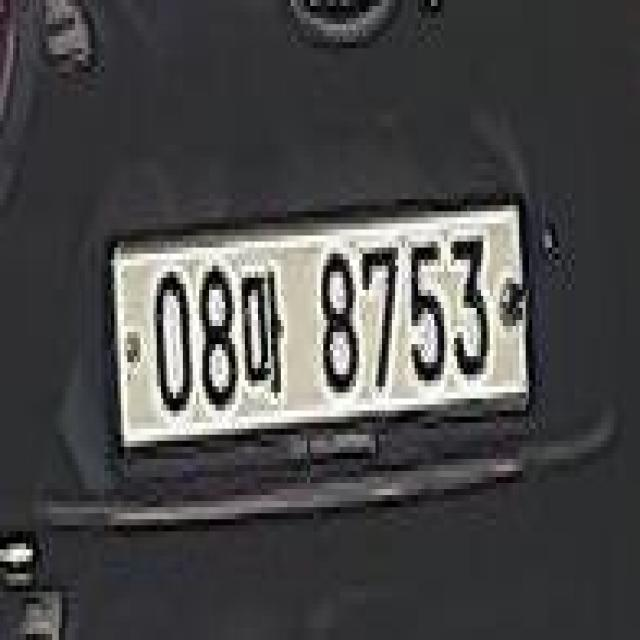illegal_plate: (103, 189, 534, 478)
